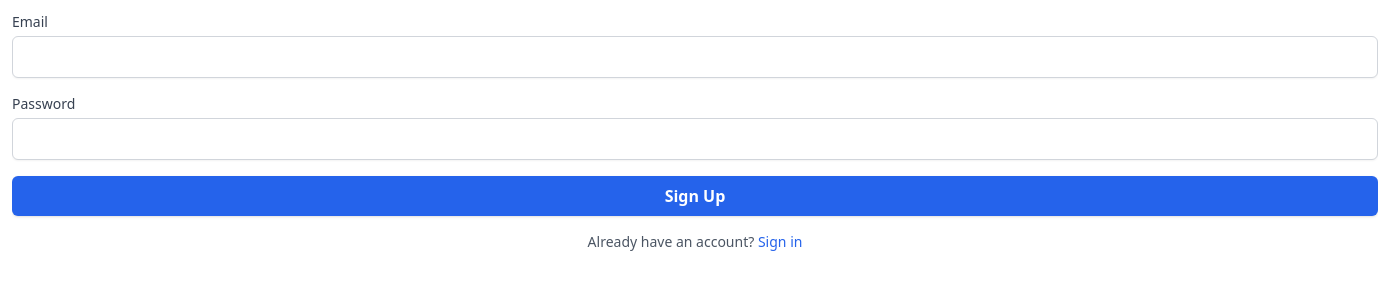
SignUpForm › shows inline error when email format is invalid
Type "notanemail" into the field labelled "Email" at (695,57), box x1=12 y1=36 x2=1378 y2=78
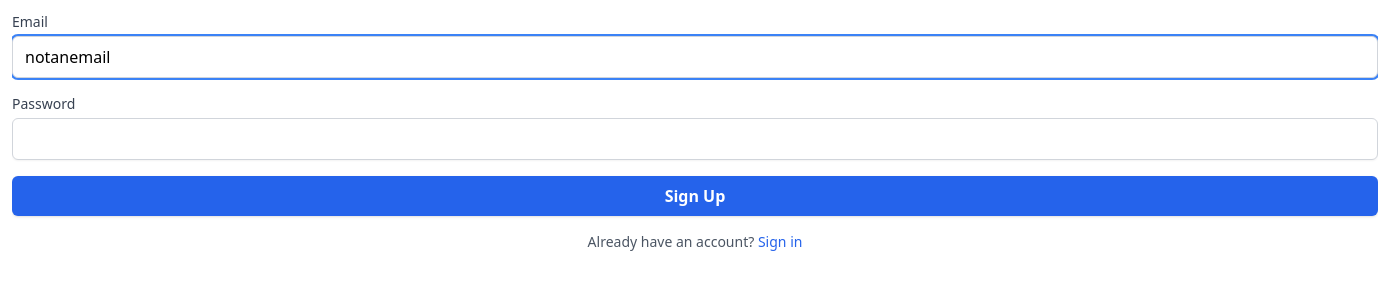
Type "password123" into the password field labelled "Password" at (695,139), box x1=12 y1=118 x2=1378 y2=160
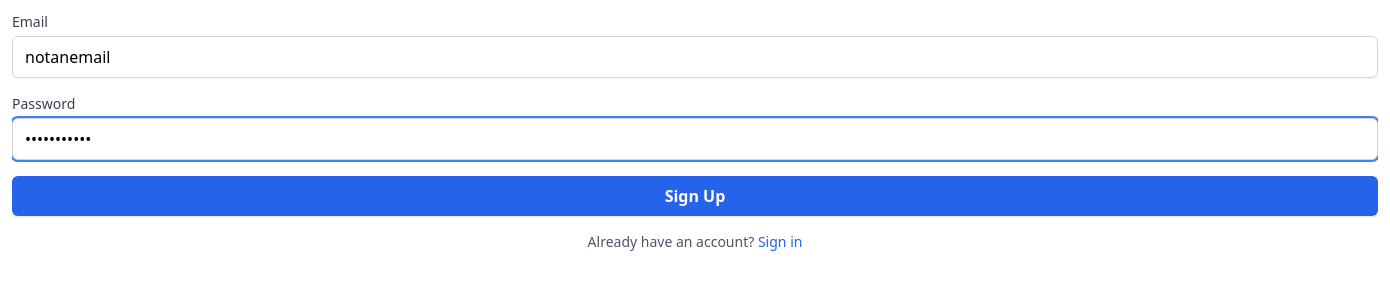
Click the button "Sign Up" at (695,196), box x1=12 y1=176 x2=1378 y2=216
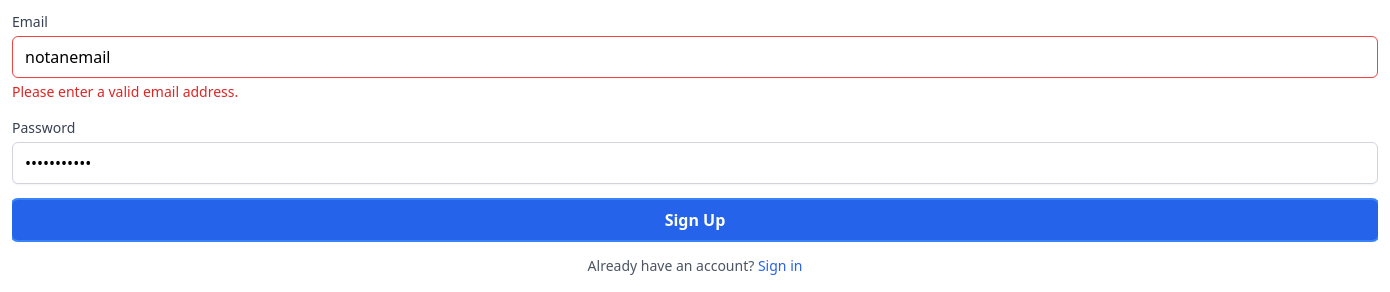
Expected: the text "Please enter a valid email address." is shown, x1=12 y1=82 x2=238 y2=101
